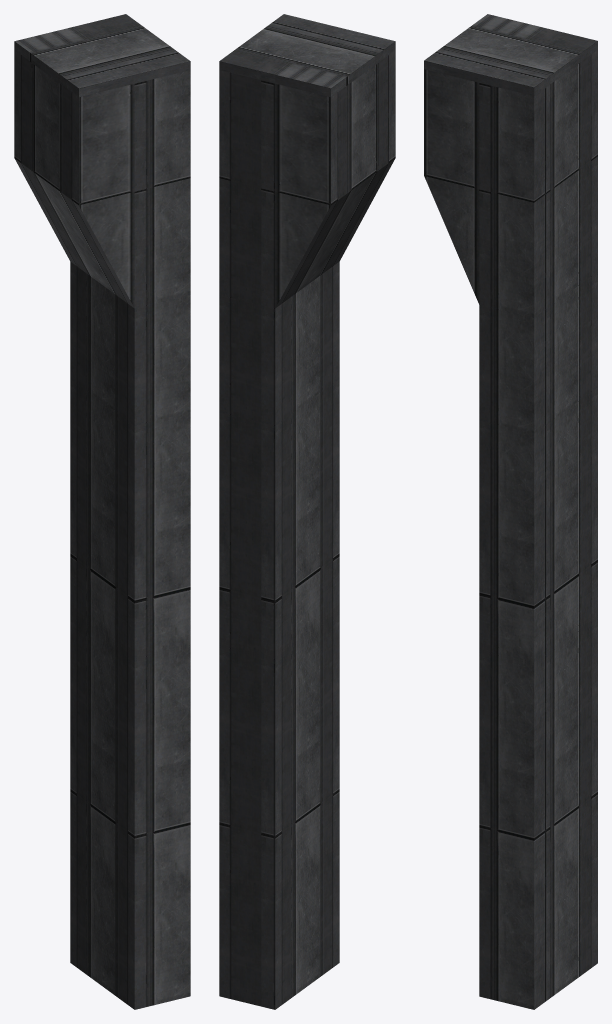
File: Neon_TubeWallB1.FBX
The picture shows the model from 3 angles, left to right: view 1: azimuth 30°, elevation 25°; view 2: azimuth 150°, elevation 25°; view 3: azimuth 330°, elevation 25°; orthographic projection.
Parts seen in each view (by area): view 1: Neon_TubeWallB1; view 2: Neon_TubeWallB1; view 3: Neon_TubeWallB1.
Boxes of the visible parts, x1=… form: Neon_TubeWallB1: x1=14, y1=14, x2=190, y2=1009; Neon_TubeWallB1: x1=219, y1=14, x2=395, y2=1009; Neon_TubeWallB1: x1=424, y1=14, x2=597, y2=1009.
Size of the model in its own units: 4 by 32 by 4.
